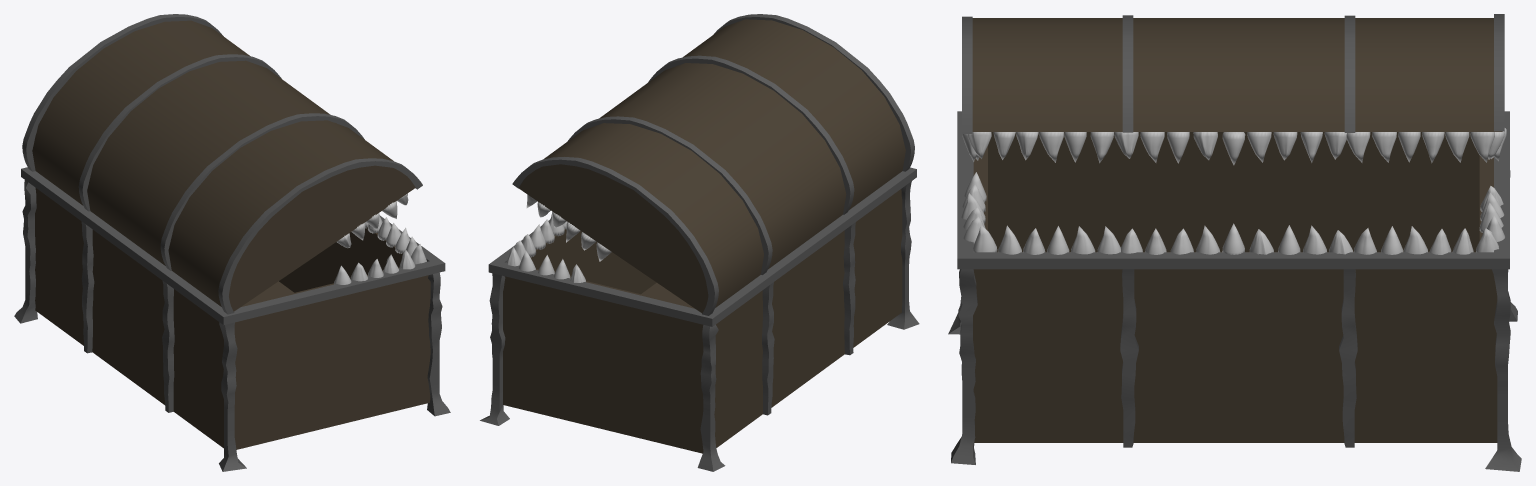
File: rörandeKistaTest.fbx
3 renders of one model, left to right at view 1: azimuth 30°, elevation 25°; view 2: azimuth 150°, elevation 25°; view 3: azimuth 270°, elevation 25°, orthographic. The views are drawn at different scales.
Visible parts, largest first — view 1: mun, polySurface1, polySurface3, pCube3, tooth35, ram__ben_3_1, ram__ben_4_, ram__ben_4_1; view 2: mun, polySurface1, polySurface3, pCube3, ram__ben_4_1, tooth35, ram__ben_3_, ram__ben_3_1; view 3: polySurface1, mun, polySurface3, tooth35, pCube2, ram__ben_4_, ram__ben_3_.
Boxes of the visible parts, bbox=[...] form: mun: bbox=[22, 14, 422, 314]; polySurface1: bbox=[35, 188, 430, 449]; polySurface3: bbox=[21, 167, 445, 324]; pCube3: bbox=[81, 221, 174, 412]; tooth35: bbox=[334, 216, 426, 284]; ram__ben_3_1: bbox=[219, 322, 246, 471]; ram__ben_4_: bbox=[427, 272, 450, 416]; ram__ben_4_1: bbox=[14, 180, 37, 323]; mun: bbox=[512, 14, 914, 315]; polySurface1: bbox=[503, 189, 902, 453]; polySurface3: bbox=[488, 167, 916, 326]; pCube3: bbox=[762, 222, 855, 415]; ram__ben_4_1: bbox=[697, 324, 725, 471]; tooth35: bbox=[506, 213, 585, 282]; ram__ben_3_: bbox=[480, 273, 509, 425]; ram__ben_3_1: bbox=[887, 181, 919, 329]; polySurface1: bbox=[973, 132, 1497, 442]; mun: bbox=[962, 14, 1506, 165]; polySurface3: bbox=[957, 111, 1509, 269]; tooth35: bbox=[961, 172, 1504, 254]; pCube2: bbox=[1120, 269, 1357, 447]; ram__ben_4_: bbox=[951, 269, 977, 464]; ram__ben_3_: bbox=[1485, 269, 1521, 471].
Size of the model in its own units: 3.43 by 3.85 by 5.33.
